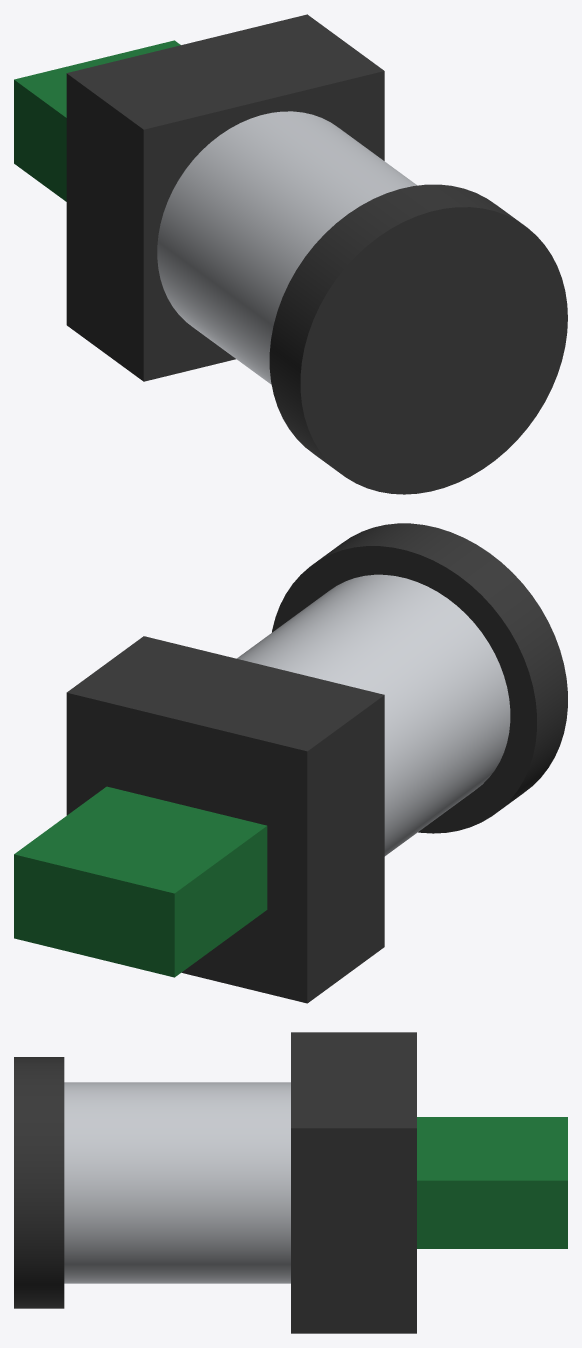
Rendered from dc_jack.glb.
3 views of the same model, one above another, from view 1: azimuth 30°, elevation 25°; view 2: azimuth 150°, elevation 25°; view 3: azimuth 270°, elevation 25° (orthographic). The views are drawn at different scales.
Visible parts, largest first — view 1: shoulder_0, rear_2, thread_1, terminals_3; view 2: rear_2, terminals_3, thread_1, shoulder_0; view 3: thread_1, rear_2, terminals_3, shoulder_0.
Boxes of the visible parts, x1,y1,x2,y2 form: shoulder_0: [269, 184, 567, 494]; rear_2: [66, 14, 384, 381]; thread_1: [157, 111, 417, 384]; terminals_3: [14, 40, 180, 201]; rear_2: [66, 636, 384, 1003]; terminals_3: [14, 786, 267, 977]; thread_1: [237, 574, 510, 856]; shoulder_0: [272, 523, 567, 833]; thread_1: [64, 1082, 290, 1283]; rear_2: [291, 1032, 416, 1333]; terminals_3: [417, 1117, 567, 1248]; shoulder_0: [14, 1057, 64, 1308].
Bounding box in the file's own units: 9.99 × 10 × 22.
